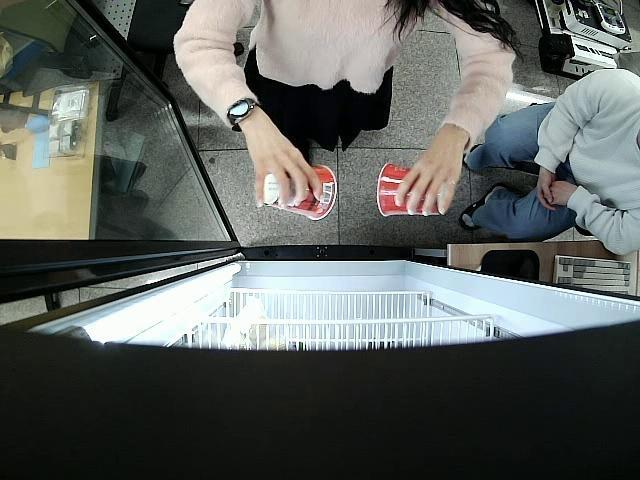02_shinRamen_S: (258, 164, 338, 222), (378, 160, 446, 217)
